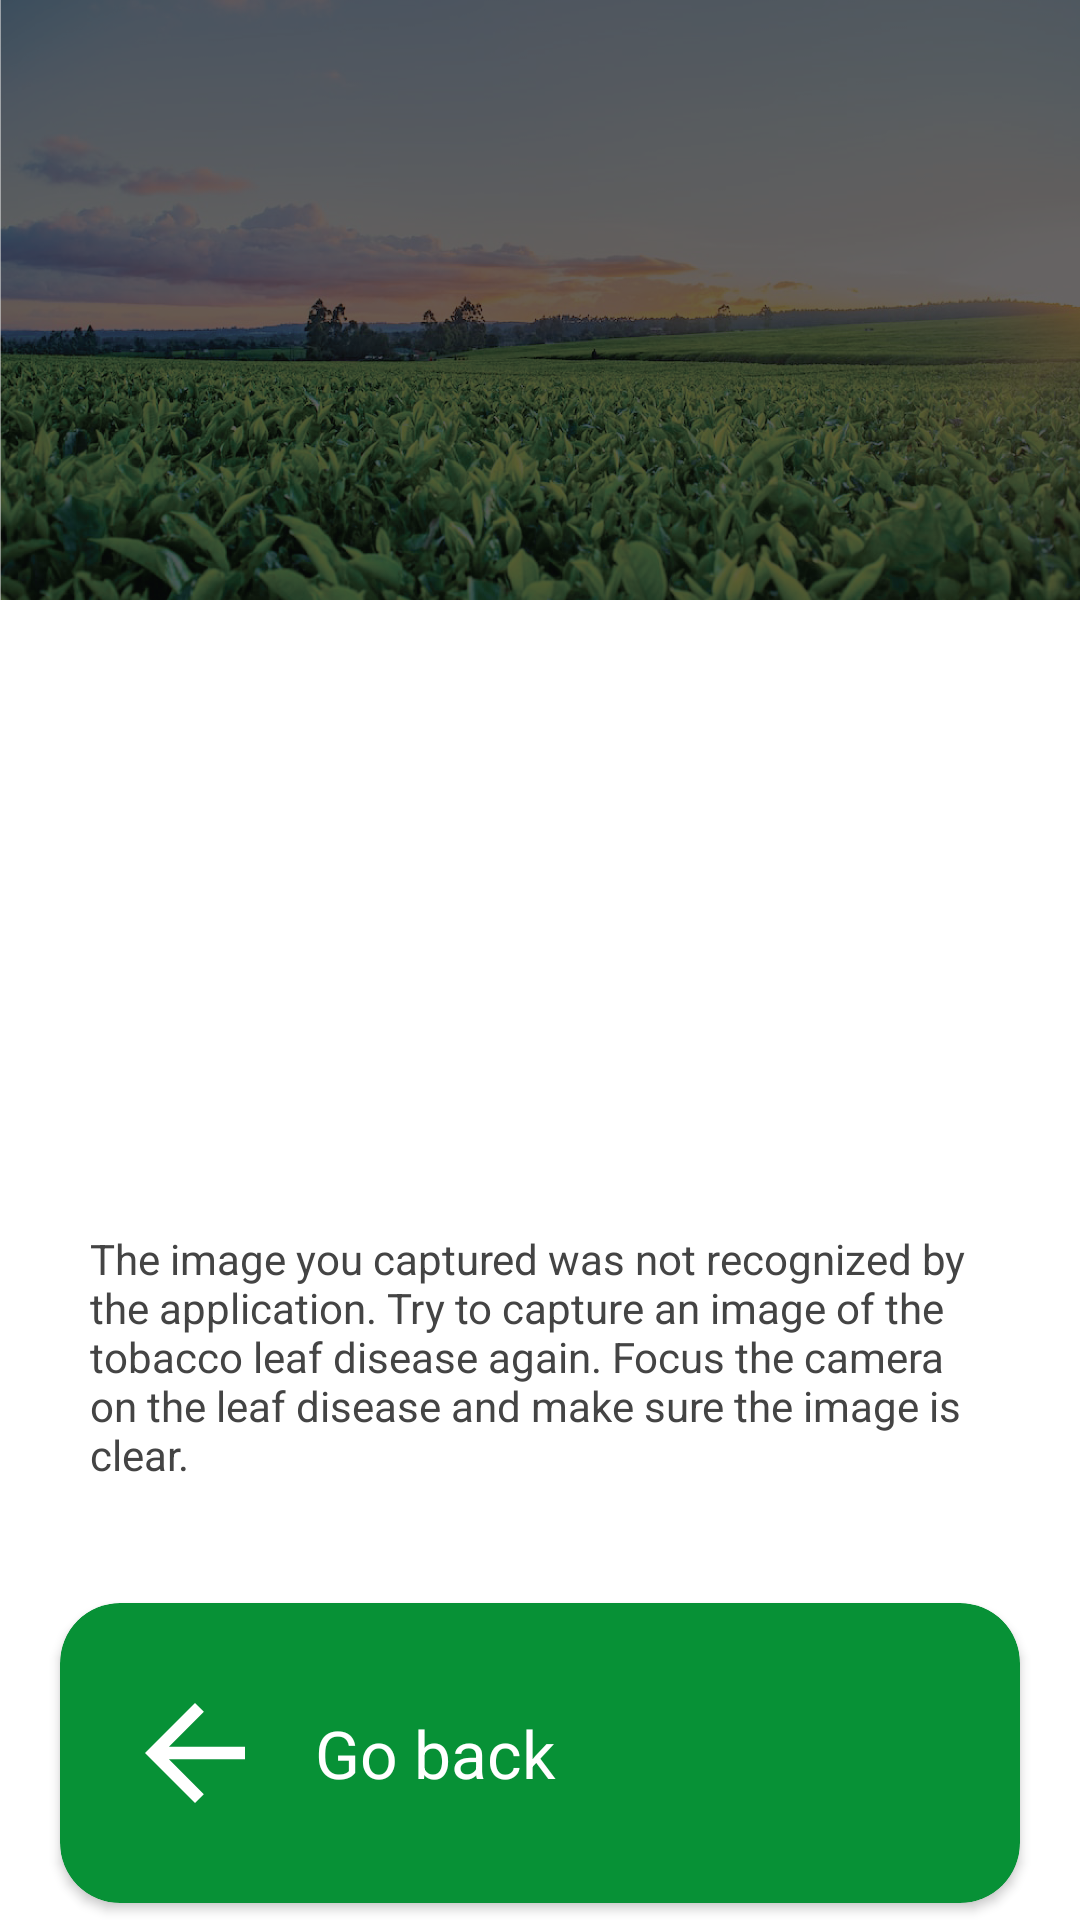

Locate icon controls on the screen. Image size 1080 × 1920, boxes as (x1, y1, x2, y2).
arrow back: (145, 1703, 245, 1803)
